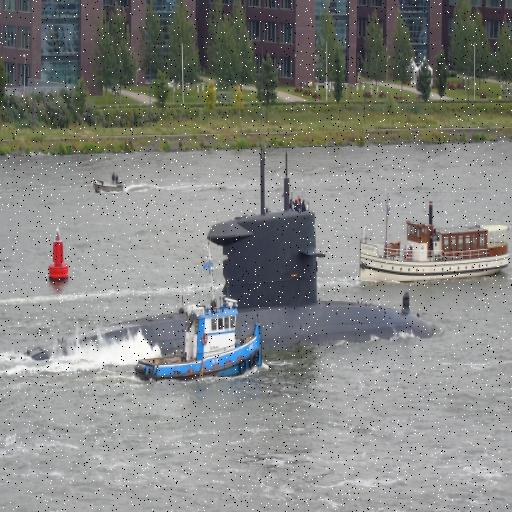submarine: (23, 146, 443, 361)
